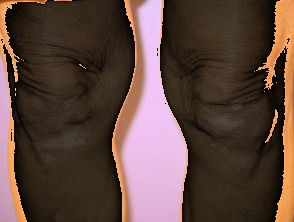vitiligo: (177, 78, 277, 174), (6, 80, 107, 170)
